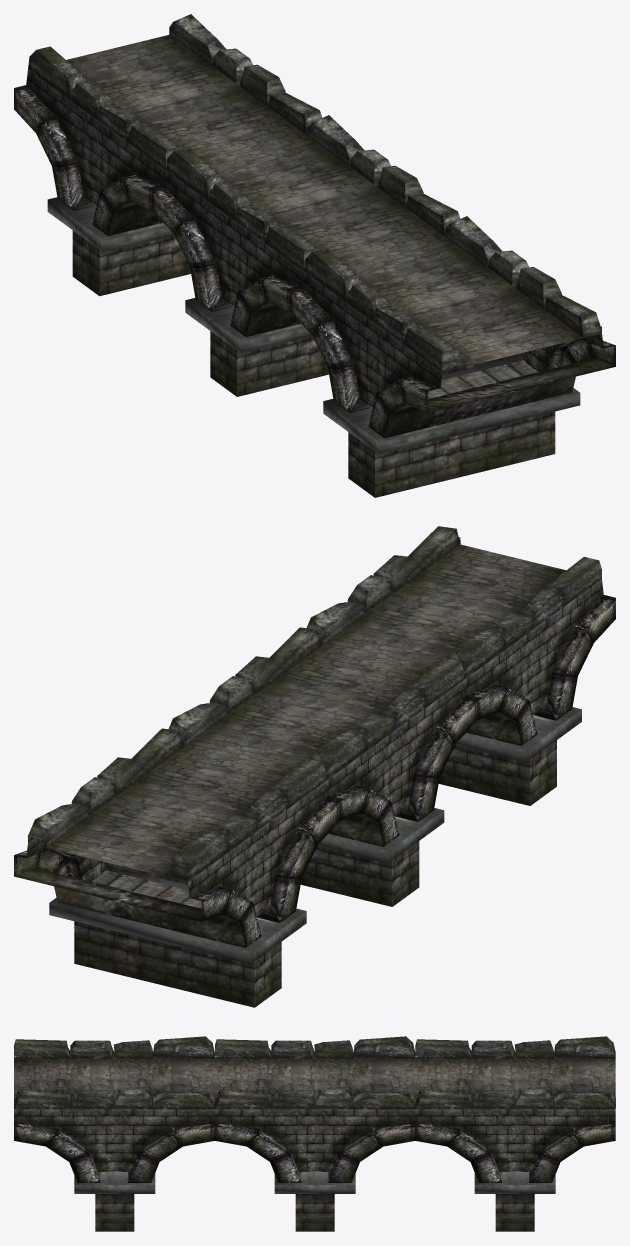
The model's file is bro.obj.
The picture shows the model from 3 angles, top to bottom: view 1: azimuth 30°, elevation 25°; view 2: azimuth 150°, elevation 25°; view 3: azimuth 270°, elevation 25°; orthographic projection. The views are drawn at different scales.
Parts seen in each view (by area): view 1: Tube01; view 2: Tube01; view 3: Tube01.
Boxes of the visible parts, x1,y1,x2,y2 form: Tube01: [14, 14, 615, 497]; Tube01: [14, 526, 615, 1007]; Tube01: [14, 1036, 615, 1231].
Bounding box in the file's own units: 96.91 × 86.12 × 346.
